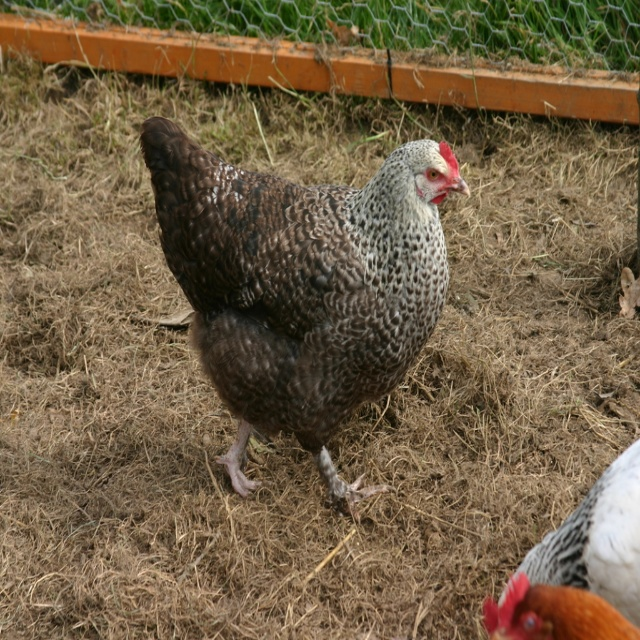Chicken: (138, 116, 470, 526), (497, 440, 640, 627), (482, 573, 640, 640)
